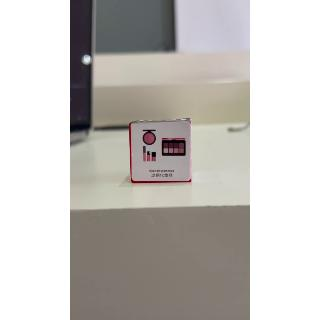Expired_Cosmetic: (130, 122, 195, 182)
